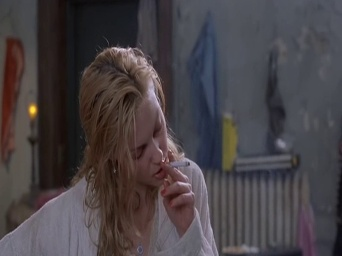smoke: (164, 161, 192, 168)
